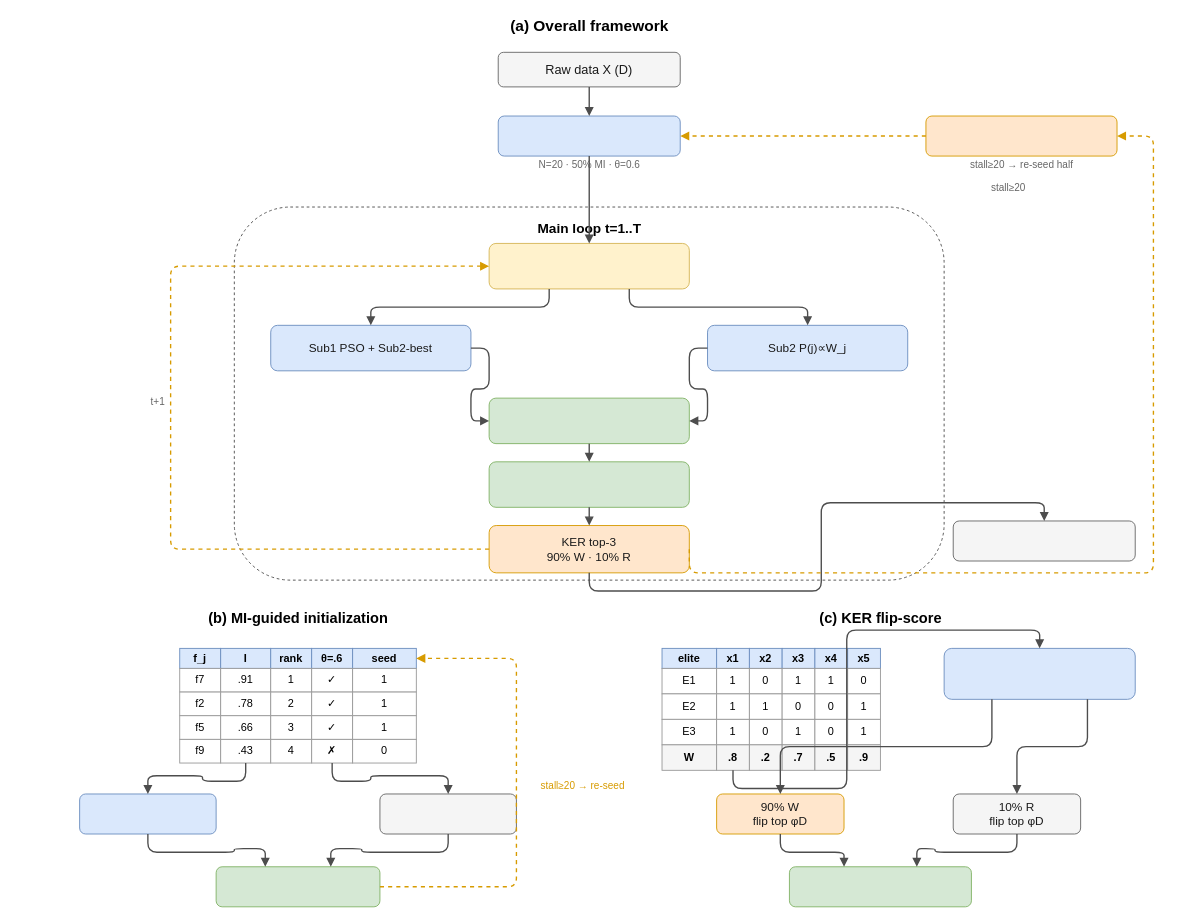
Some shapes in this 1178 by 923 pixel diagram are drawn without their labels. Here are the shapes that lost their labels. From the top down, the centre of each, then its label:
At pixel 588 135: "MI-guided hybrid init".
At pixel 1021 135: "Adaptive MI re-init".
At pixel 588 266: "Two-phase weights [.7,.3]→[.95,.05]".
At pixel 588 420: "Fitness eval".
At pixel 588 484: "W update + decay δ(2x-1)·0.99".
At pixel 1043 540: "Compact feature subset".
At pixel 1039 673: "σ_j=+W_j if x_j=0 σ_j=-W_j if x_j=1".
At pixel 147 813: "50% MI seed".
At pixel 447 813: "50% rand seed".
At pixel 297 886: "N=20 initial pop".
At pixel 880 886: "Re-evaluate; keep if f improves".
